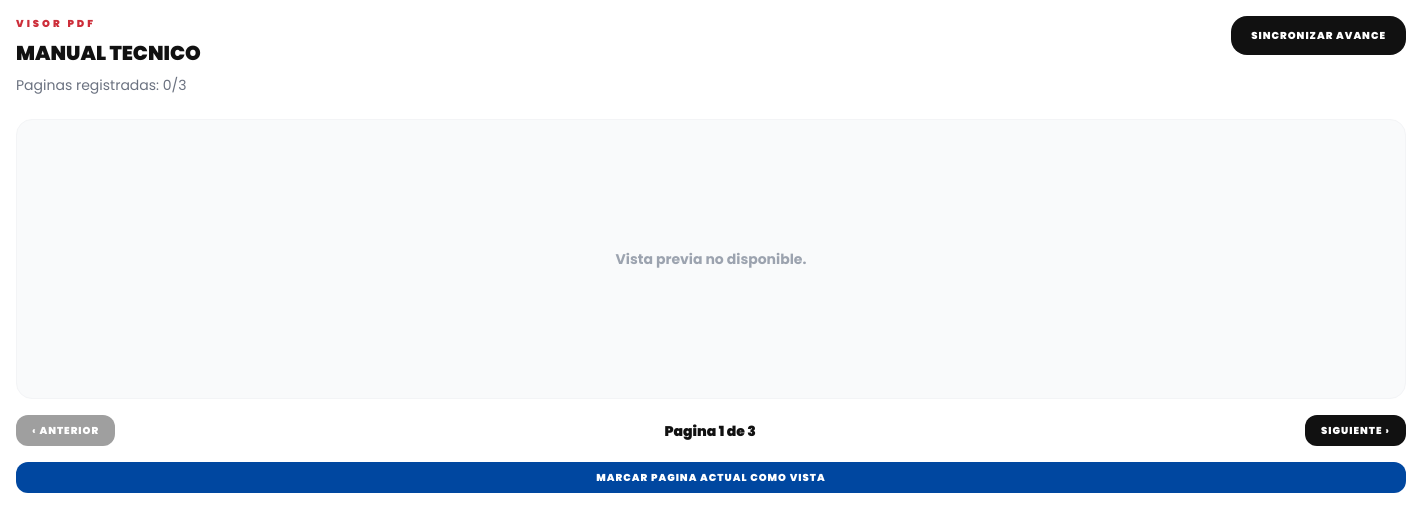
Test: PdfViewer › renderiza la primera pagina y permite navegar con los controles
This screenshot has width=1424, height=510.
Expected: the heading "Manual tecnico" is shown, left=16, top=39, right=201, bottom=67
Expected: the text "Pagina 1 de 3" is shown, left=664, top=420, right=756, bottom=440
Step 1. Click the button "Siguiente ›" → point(1356, 430), box left=1305, top=415, right=1406, bottom=446
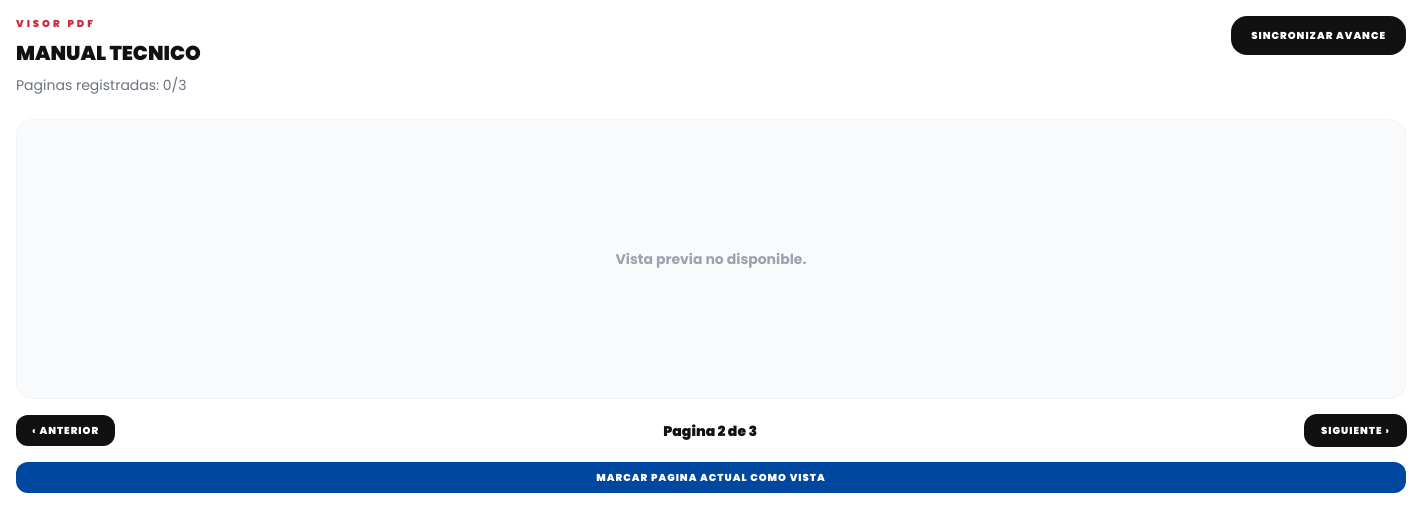
Now the text "Pagina 2 de 3" is shown, box left=663, top=420, right=757, bottom=440
Now the button "‹ Anterior" is enabled, box left=16, top=415, right=115, bottom=446
Step 2. Click the button "Siguiente ›" → point(1356, 430), box left=1305, top=415, right=1406, bottom=446
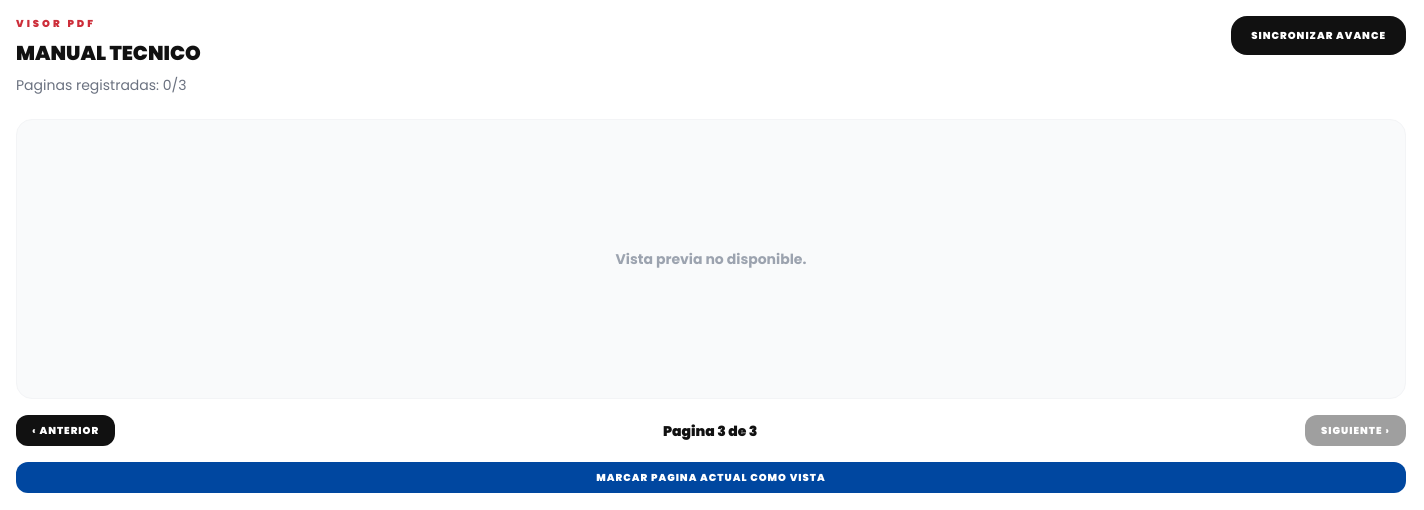
Now the text "Pagina 3 de 3" is shown, box left=663, top=420, right=757, bottom=440
Now the button "Siguiente ›" is disabled, box left=1305, top=415, right=1406, bottom=446
